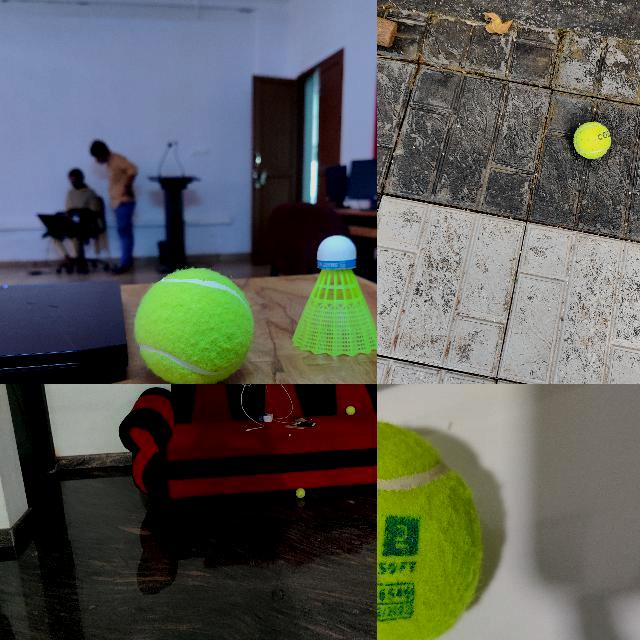tennis-ball: (377, 417, 486, 639), (134, 269, 253, 383), (573, 121, 612, 159), (295, 488, 305, 498), (345, 406, 355, 415)
